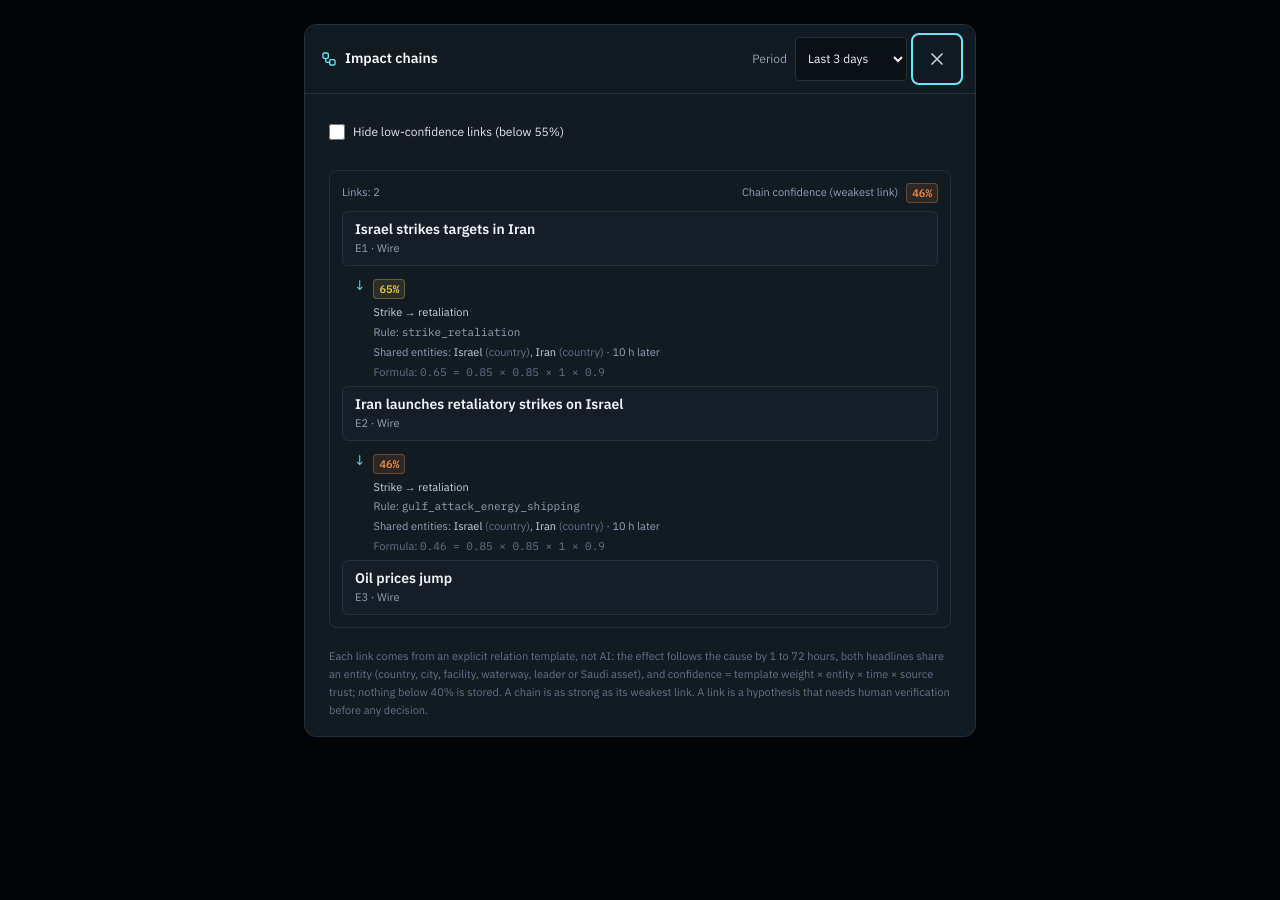
Scenario: <ChainsModal> › flags the previous chains when a new period fails instead of hiding the error
Expected: the text "Israel strikes targets in Iran" is shown, [355,219,535,240]
Select "Last week" in the dropdown labelled "Period" at (851, 59), box [795,37,907,81]
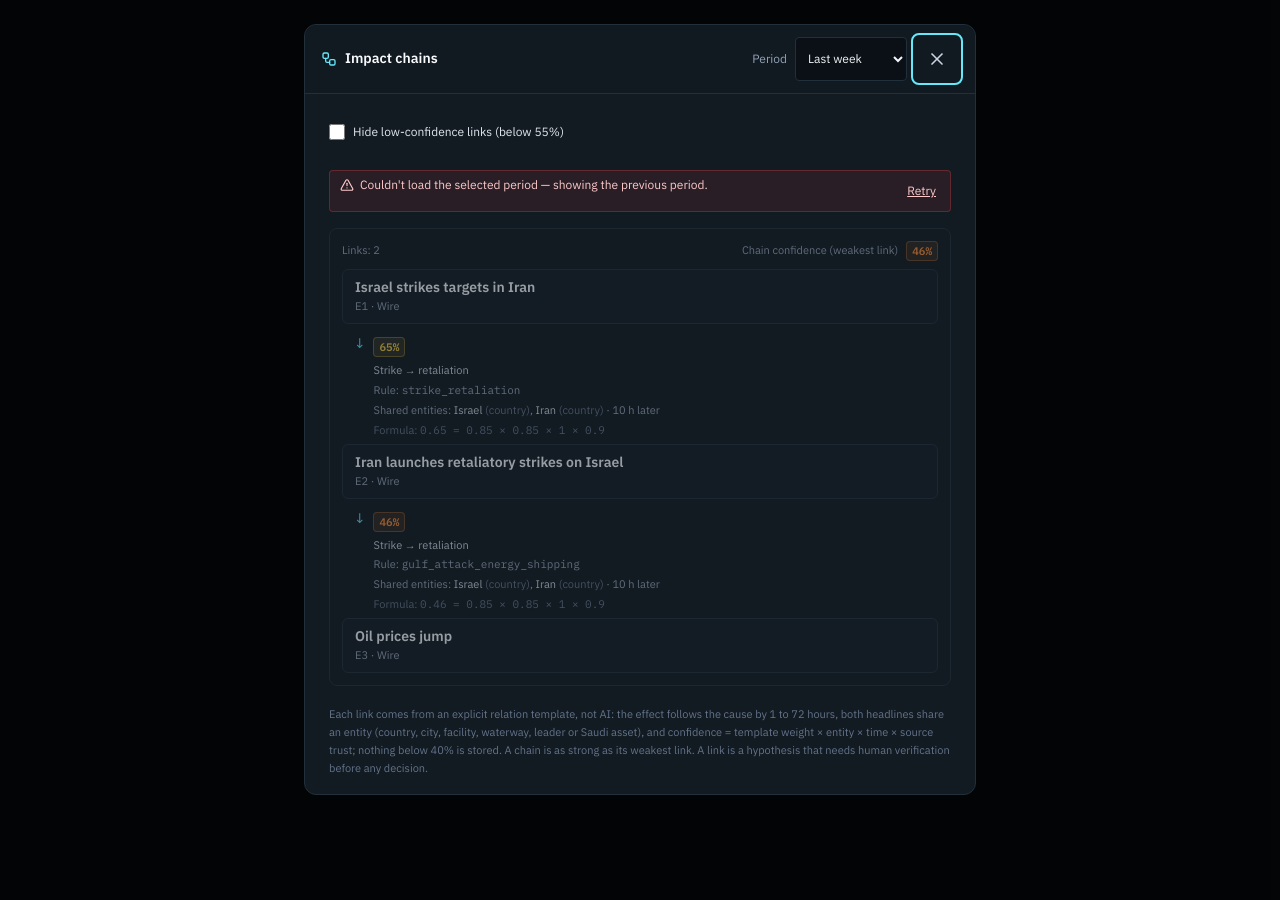
Expected: the text "Israel strikes targets in Iran" is shown, [355,277,535,298]
Now the message shows "Couldn't load the selected period — showing the previous period.", box [360,176,708,194]
